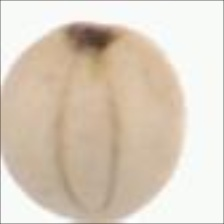L5: (51, 41, 122, 210), (55, 18, 134, 52)
L6: (1, 19, 189, 224)
